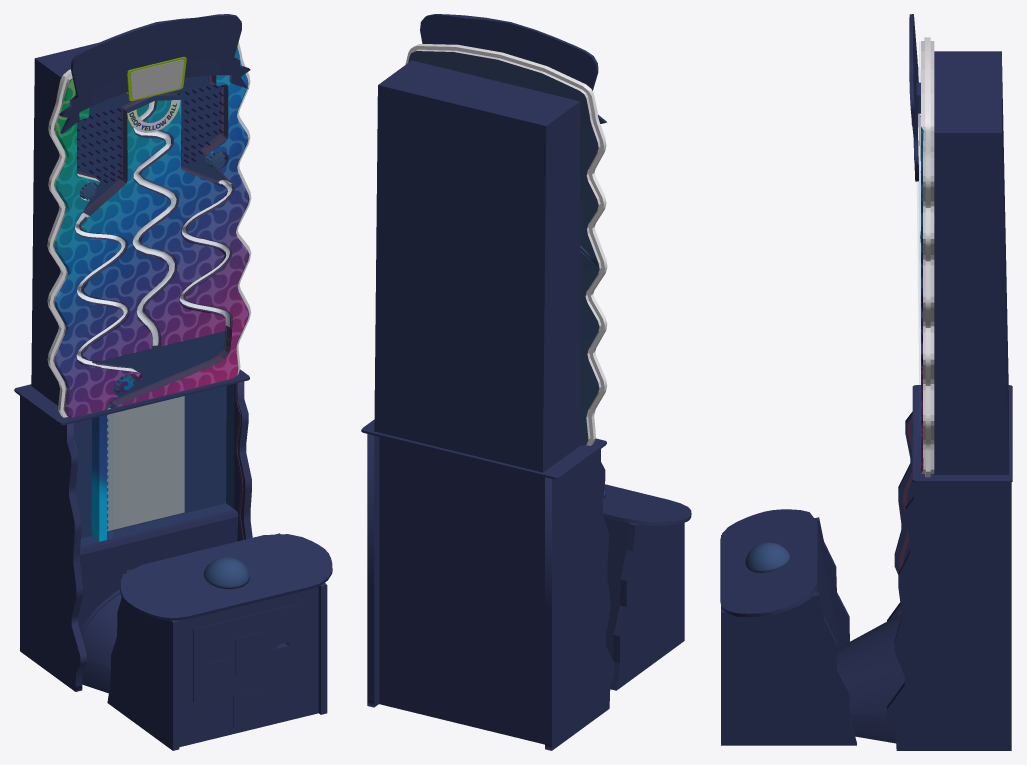
The model's file is Baytek_Arcade_Squiggle model.fbx.
The picture shows the model from 3 angles, left to right: view 1: azimuth 30°, elevation 25°; view 2: azimuth 150°, elevation 25°; view 3: azimuth 270°, elevation 25°; orthographic projection. The views are drawn at different scales.
Parts seen in each view (by area): view 1: Body, Board, Monitor, Lights, Scoreboard, Button, GlassPanel; view 2: Body, Board, Lights; view 3: Body, Board, Lights, Button.
Part boxes in pixels (x1,y1,x2,y2): Body: [14, 14, 332, 750]; Board: [53, 47, 249, 417]; Monitor: [107, 396, 184, 531]; Lights: [47, 41, 251, 540]; Scoreboard: [130, 59, 183, 98]; Button: [203, 557, 249, 589]; GlassPanel: [107, 408, 112, 538]; Body: [361, 14, 691, 750]; Board: [408, 49, 601, 445]; Lights: [405, 44, 607, 445]; Body: [720, 14, 1012, 750]; Board: [921, 41, 934, 473]; Lights: [897, 37, 930, 615]; Button: [745, 542, 790, 572].
Bounding box in the file's own units: 119 × 363 × 145.
